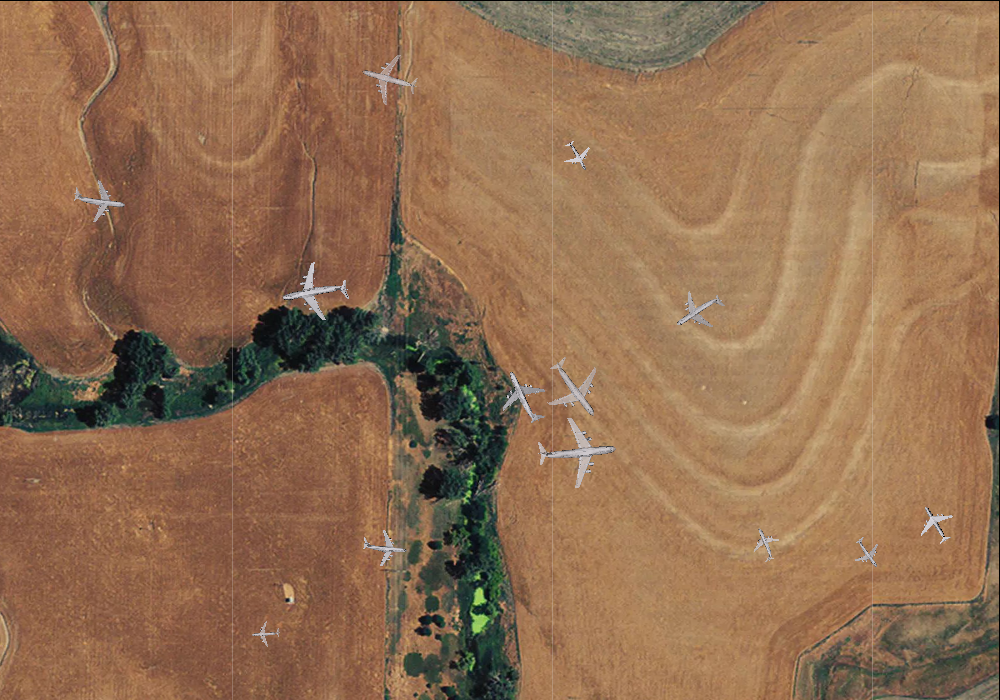plane: (530, 343, 620, 433), (533, 409, 620, 493), (276, 255, 354, 330), (488, 360, 560, 433), (664, 277, 734, 346), (355, 45, 423, 111), (69, 172, 128, 227), (909, 497, 962, 551), (360, 524, 408, 570), (845, 530, 890, 575), (743, 522, 786, 567), (556, 134, 598, 177), (250, 620, 280, 648)
